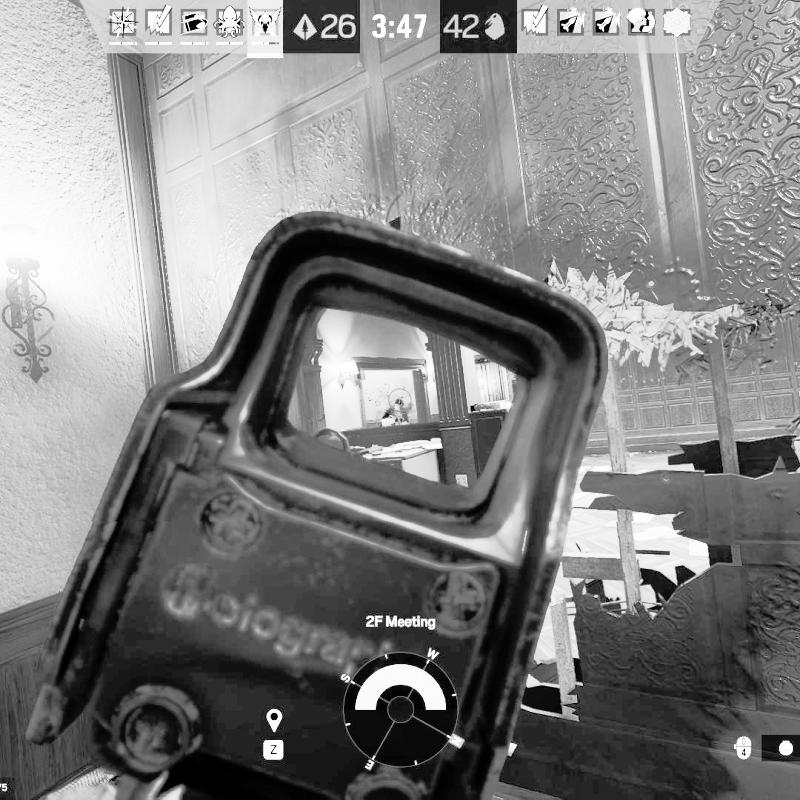Character: (381, 395, 411, 426)
Head: (392, 398, 404, 411)
